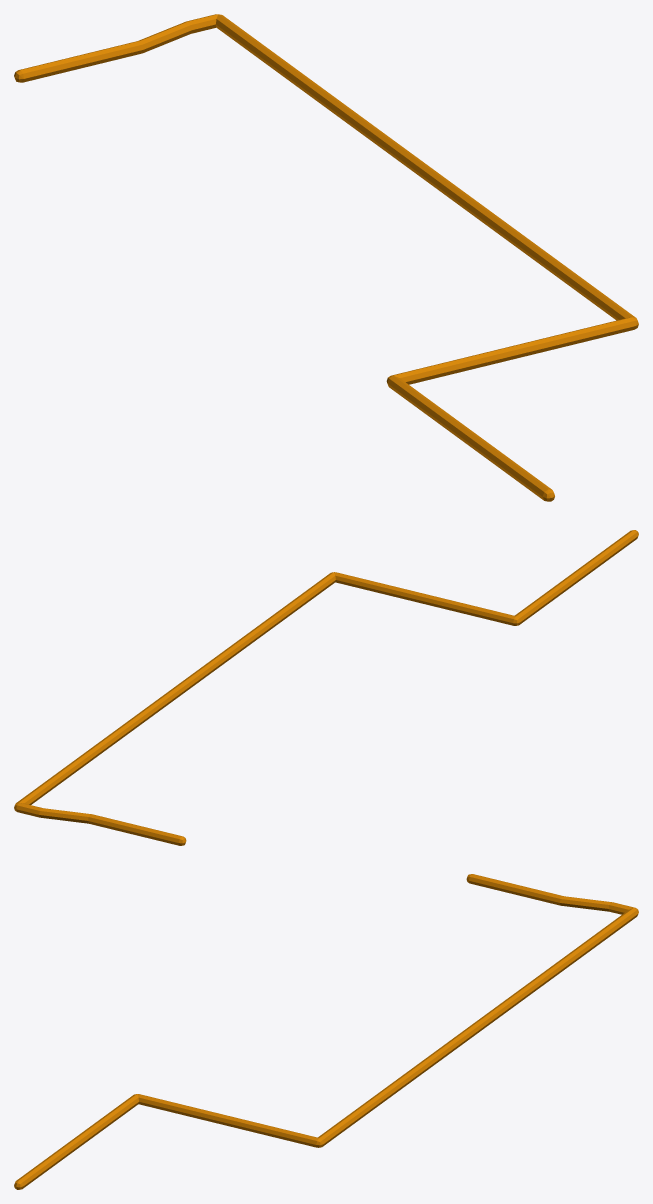
3 renders of one model, top to bottom at view 1: azimuth 30°, elevation 25°; view 2: azimuth 150°, elevation 25°; view 3: azimuth 330°, elevation 25°, orthographic. The views are drawn at different scales.
Size of the model in its own units: 420 by 20 by 1670.
